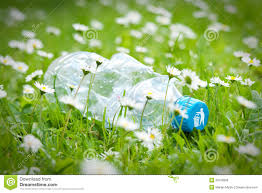plastic_bottle: (42, 50, 211, 138)
